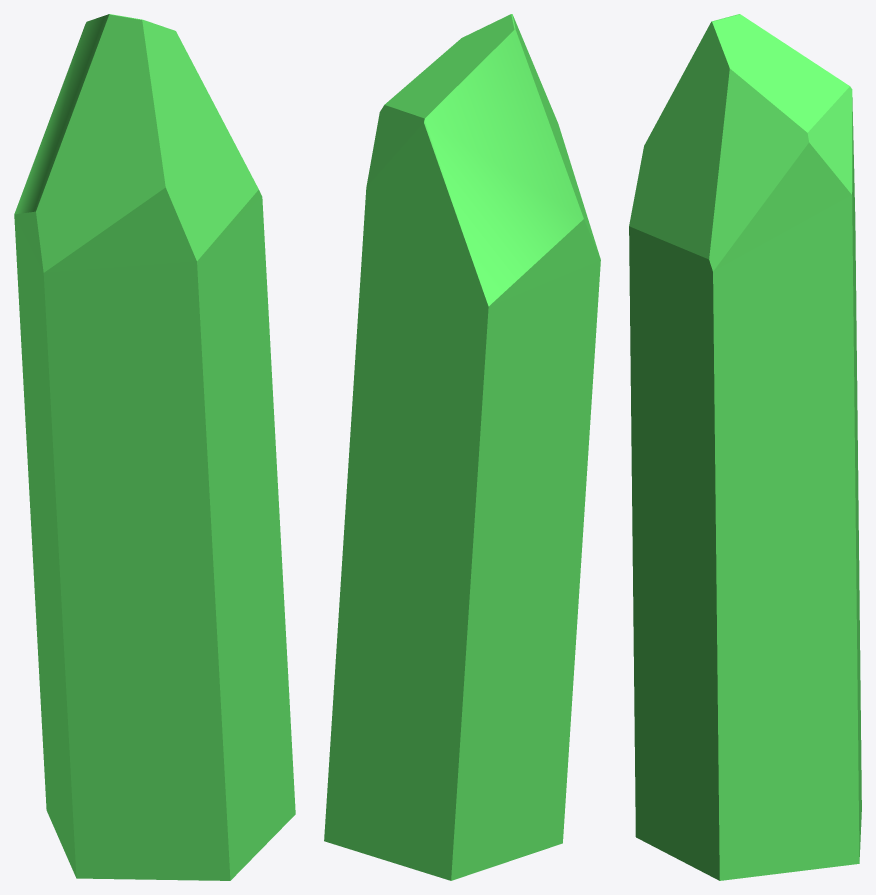
The model's file is Niflheim_Table_Crystal.glb.
3 views of the same model, side by side, from view 1: azimuth 30°, elevation 25°; view 2: azimuth 150°, elevation 25°; view 3: azimuth 270°, elevation 25° (orthographic). The views are drawn at different scales.
Parts seen in each view (by area): view 1: Largest crystal; view 2: Largest crystal; view 3: Largest crystal.
Boxes of the visible parts, <box> form: Largest crystal: <box>14,14,295,880</box>; Largest crystal: <box>324,14,600,880</box>; Largest crystal: <box>629,14,861,880</box>.
Bounding box in the file's own units: 1.24 × 3.96 × 1.05.
